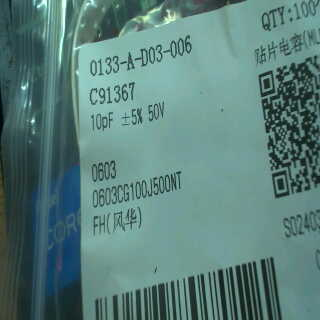10pF: (82, 109, 116, 130)
